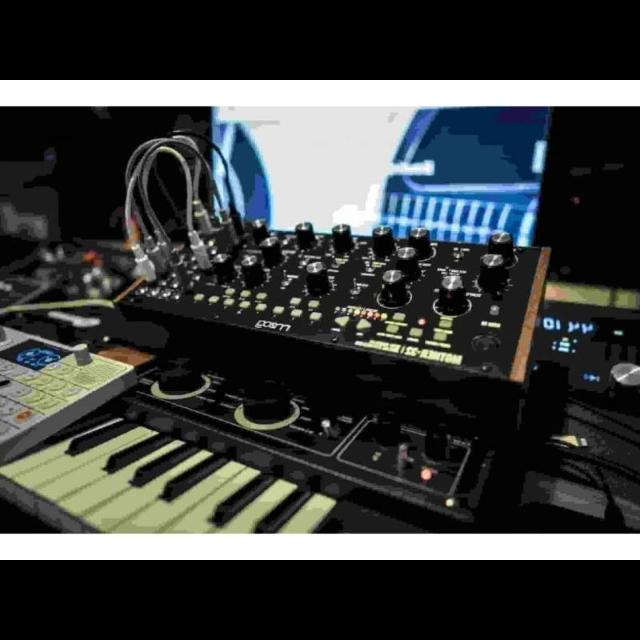Electronic-Keyboard: (51, 382, 524, 520)
